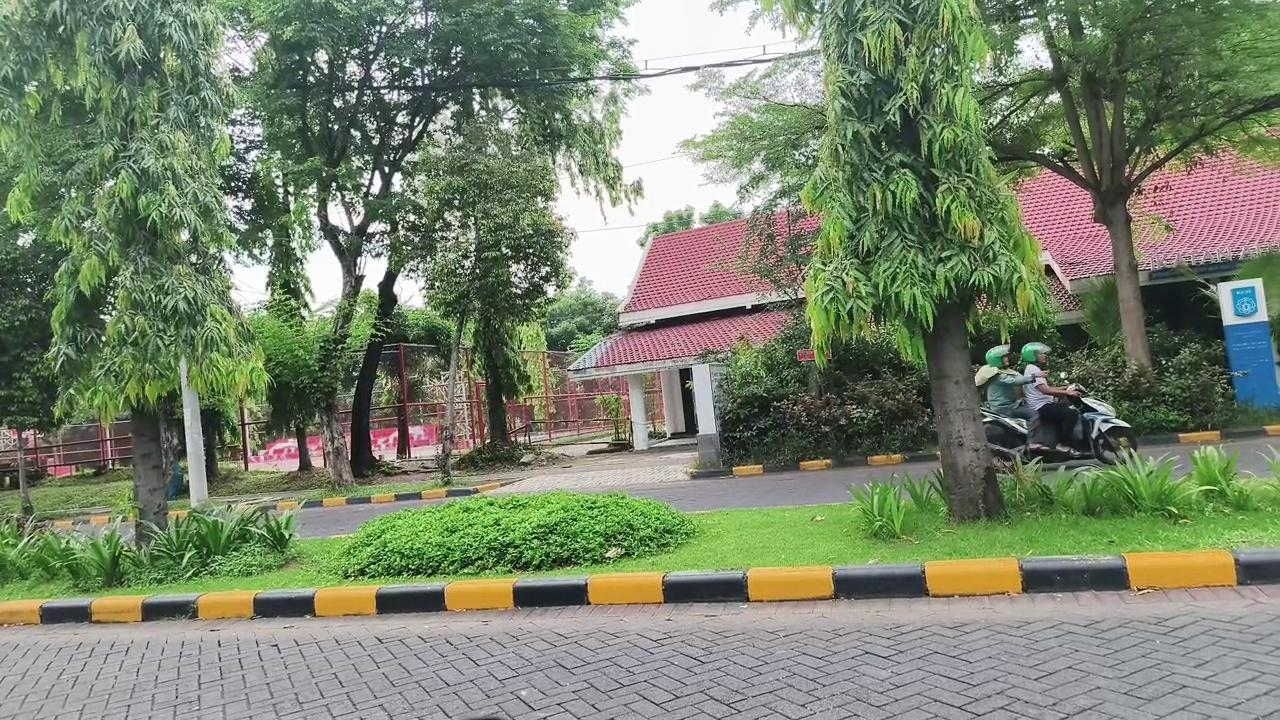Helmet: (1021, 342, 1079, 453), (975, 346, 1035, 419)
Motor: (982, 384, 1136, 464)
